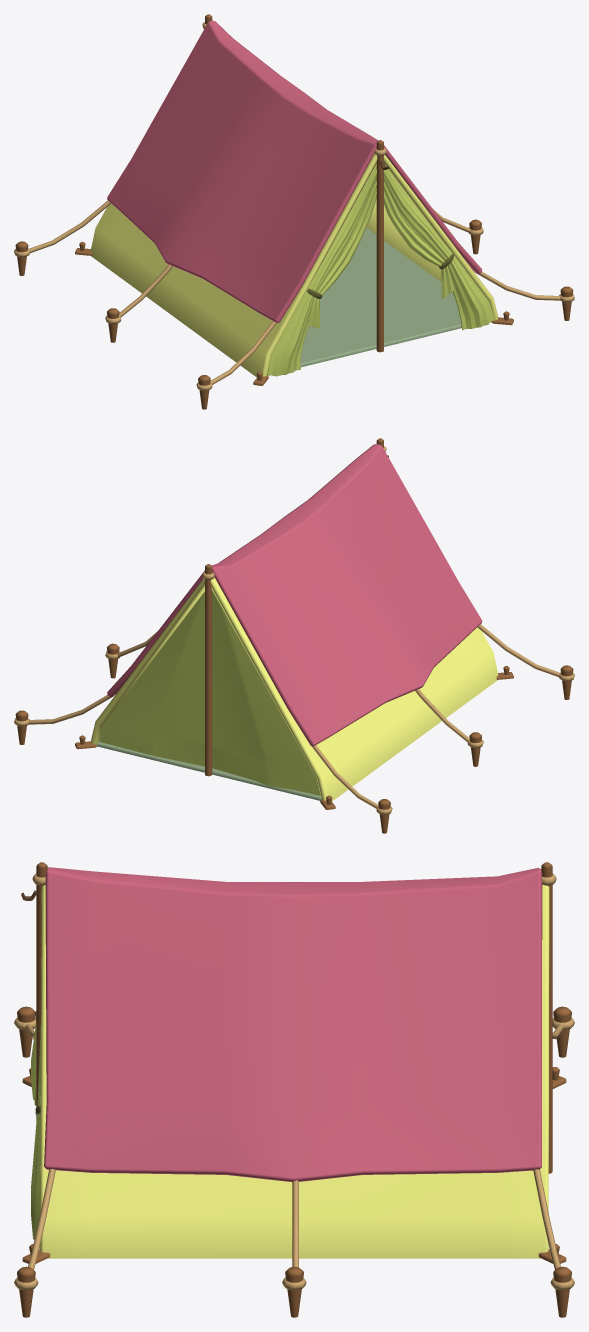
File: tent _pink_normal.fbx
3 views of the same model, one above another, from view 1: azimuth 30°, elevation 25°; view 2: azimuth 150°, elevation 25°; view 3: azimuth 270°, elevation 25° (orthographic). The views are drawn at different scales.
Parts seen in each view (by area): view 1: tent_pink_normal; view 2: tent_pink_normal; view 3: tent_pink_normal.
Boxes of the visible parts, box(x1,y1,x2,y2) form: tent_pink_normal: box(14, 14, 574, 409); tent_pink_normal: box(14, 438, 574, 833); tent_pink_normal: box(14, 862, 574, 1317).
Size of the model in its own units: 277 by 154 by 243.
